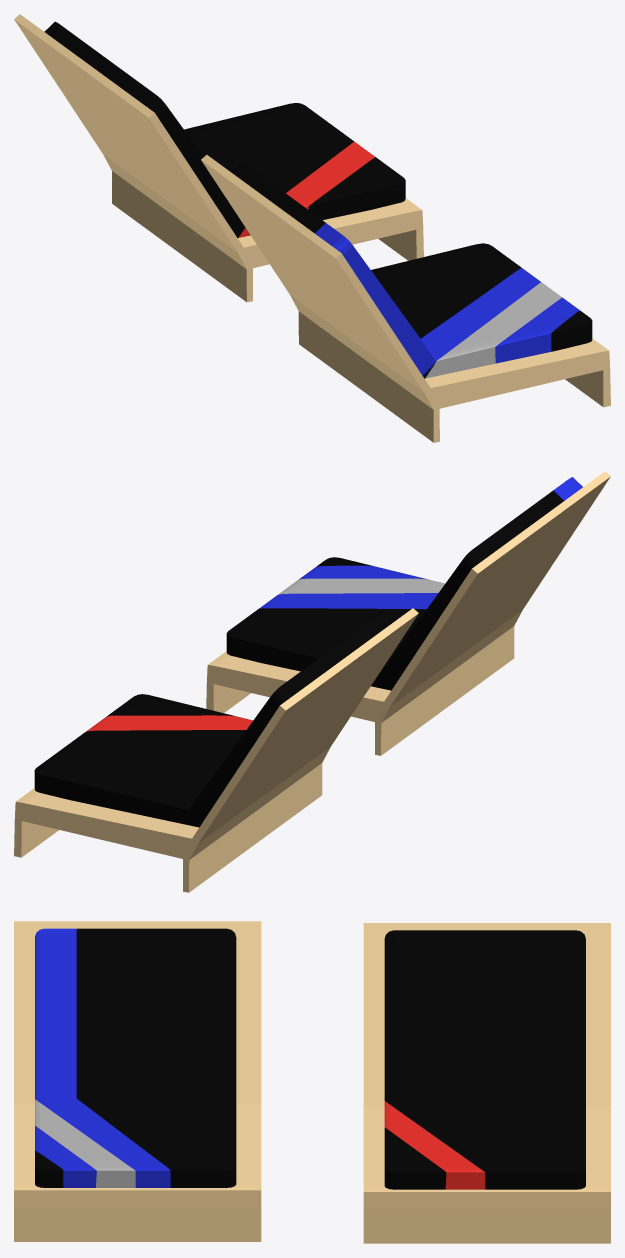
File: crashpads.glb
The picture shows the model from 3 angles, top to bottom: view 1: azimuth 30°, elevation 25°; view 2: azimuth 150°, elevation 25°; view 3: azimuth 270°, elevation 25°; orthographic projection. The views are drawn at different scales.
Visible parts, largest first — view 1: Cube, Cube.000, Cube.003, Cube.001; view 2: Cube.003, Cube, Cube.001, Cube.000; view 3: Cube.001, Cube.000, Cube.003, Cube.
Boxes of the visible parts, x1,y1,x2,y2 form: Cube: (201, 155, 610, 442); Cube.000: (231, 162, 592, 378); Cube.003: (14, 14, 423, 302); Cube.001: (44, 21, 405, 237); Cube.003: (14, 608, 418, 892); Cube: (206, 471, 610, 755); Cube.001: (34, 614, 390, 827); Cube.000: (226, 477, 582, 690); Cube.001: (384, 930, 585, 1189); Cube.000: (35, 928, 236, 1187); Cube.003: (363, 923, 610, 1243); Cube: (14, 921, 261, 1241).
Size of the model in its own units: 2.94 by 2.2 by 5.93.
